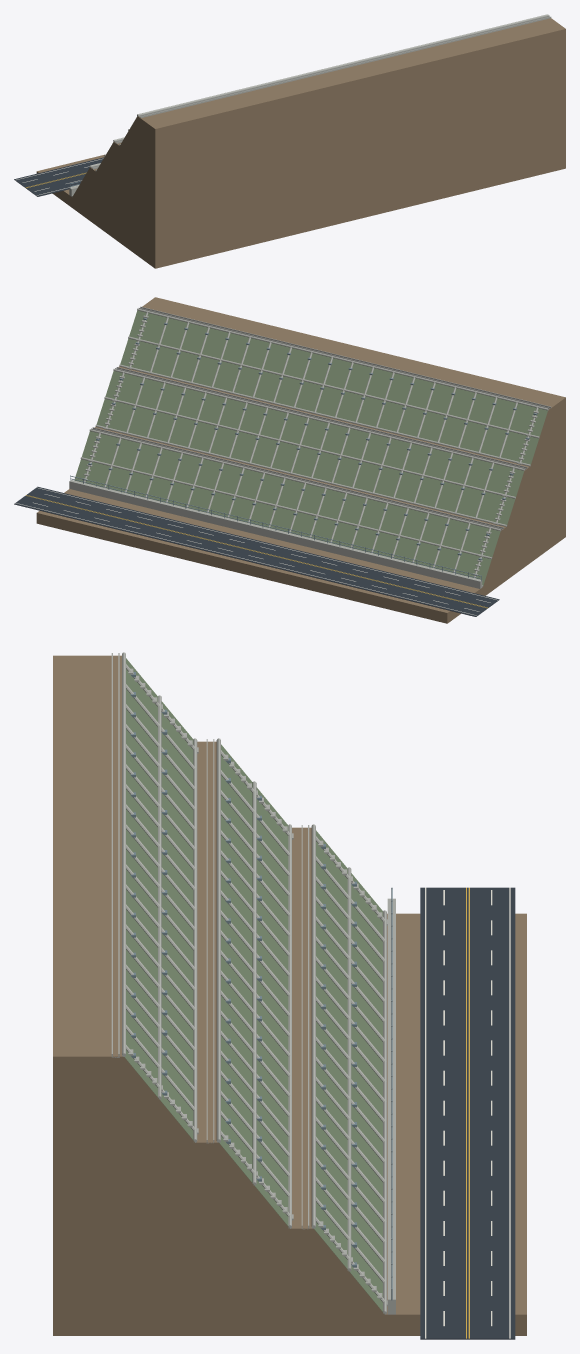
The model's file is slope.glb.
3 views of the same model, one above another, from view 1: azimuth 30°, elevation 25°; view 2: azimuth 150°, elevation 25°; view 3: azimuth 270°, elevation 25° (orthographic). The views are drawn at different scales.
Parts seen in each view (by area): view 1: 边坡分级地形, 平台排水沟侧壁 (×2), 沥青铺装 / 80 mm, 水平框架梁; view 2: 植生护坡面 (×3), 边坡分级地形, 沥青铺装 / 80 mm, 水平框架梁 (×8), 平台排水沟侧壁 (×6), 坡脚挡墙, 连续防护横梁 (×2), 道路边缘实线 (×2), 中心双黄线 (×2); view 3: 边坡分级地形, 植生护坡面 (×3), 沥青铺装 / 80 mm, 水平框架梁 (×9), 坡脚挡墙, 道路边缘实线 (×2), 中心双黄线.
Boxes of the visible parts, x1,y1,x2,y2 form: 边坡分级地形: (36, 18, 565, 268); 平台排水沟侧壁 (×2): (138, 15, 551, 118); 沥青铺装 / 80 mm: (14, 157, 103, 196); 水平框架梁: (137, 14, 548, 115); 植生护坡面 (×3): (74, 310, 547, 585); 边坡分级地形: (36, 297, 565, 623); 沥青铺装 / 80 mm: (14, 486, 499, 616); 水平框架梁 (×8): (80, 308, 548, 559); 平台排水沟侧壁 (×6): (91, 306, 551, 530); 坡脚挡墙: (69, 480, 482, 588); 连续防护横梁 (×2): (70, 476, 480, 578); 道路边缘实线 (×2): (15, 487, 497, 615); 中心双黄线 (×2): (26, 495, 487, 608); 边坡分级地形: (53, 655, 526, 1335); 植生护坡面 (×3): (124, 658, 384, 1313); 沥青铺装 / 80 mm: (420, 887, 515, 1339); 水平框架梁 (×9): (122, 652, 386, 1314); 坡脚挡墙: (387, 898, 395, 1314); 道路边缘实线 (×2): (425, 887, 510, 1338); 中心双黄线: (468, 887, 469, 1338).
Size of the model in its own units: 90 by 26.32 by 40.
